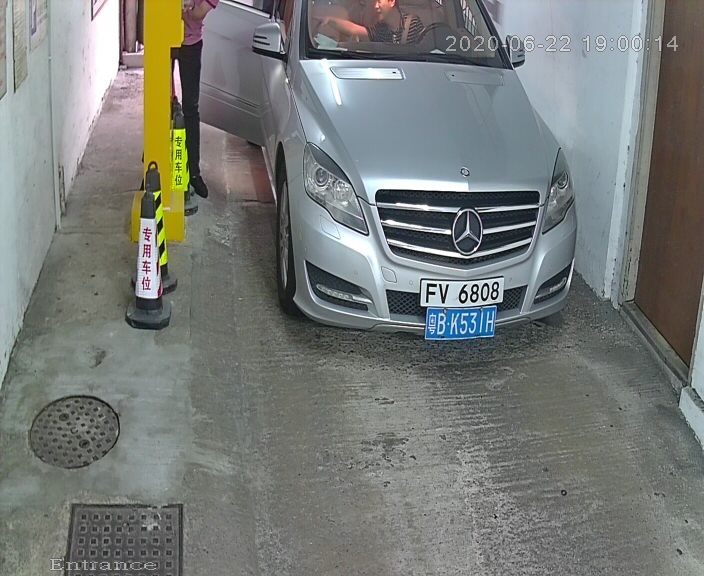privatecar: (172, 1, 590, 361)
